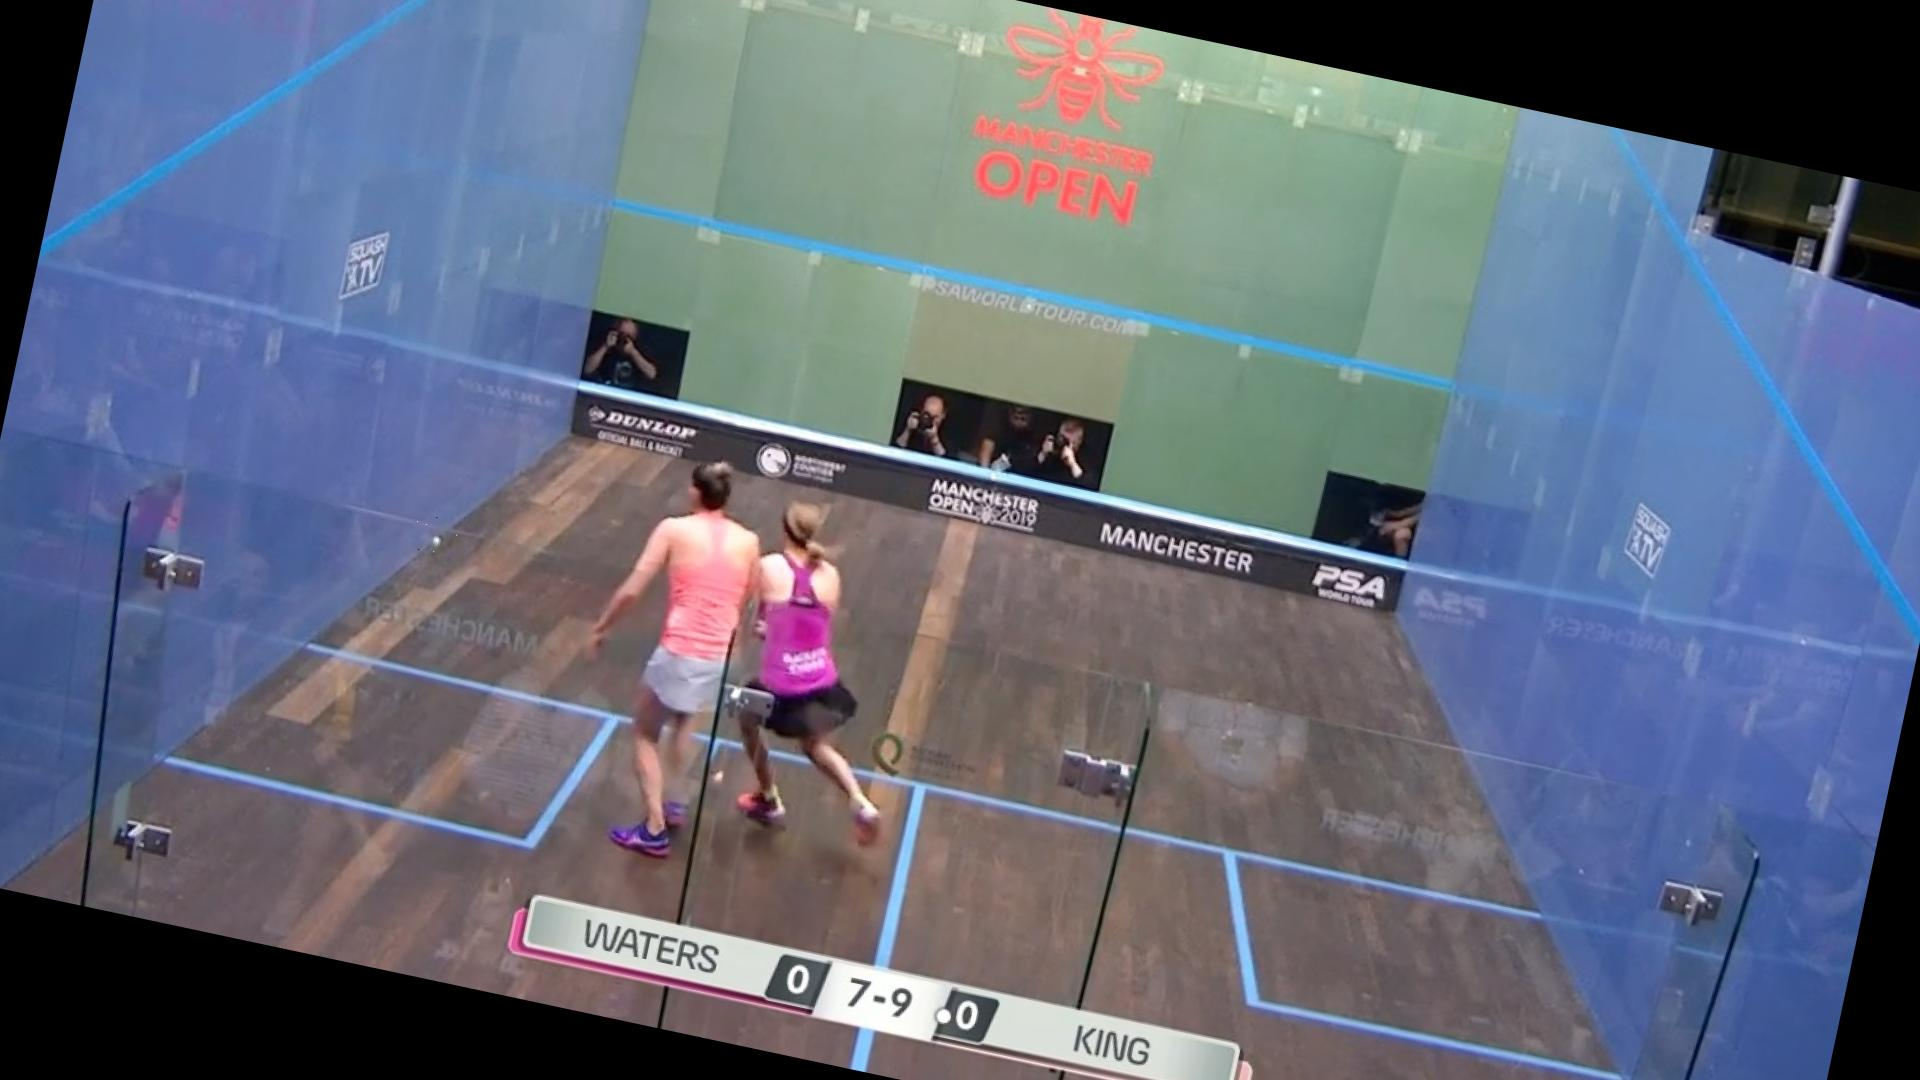Squash-Ball: (405, 509, 469, 570)
